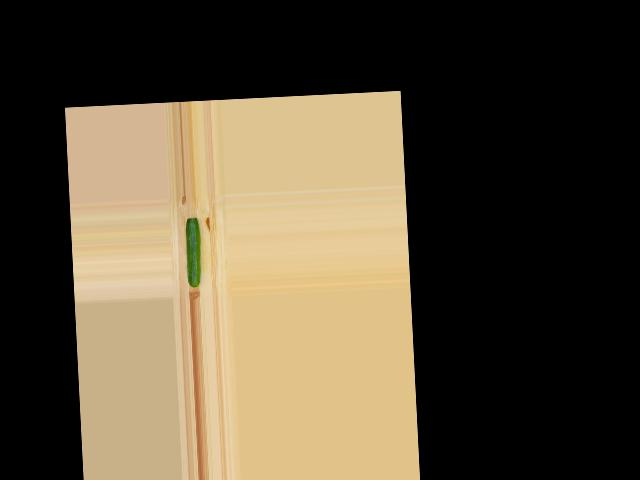cucumber: (185, 218, 202, 287)
